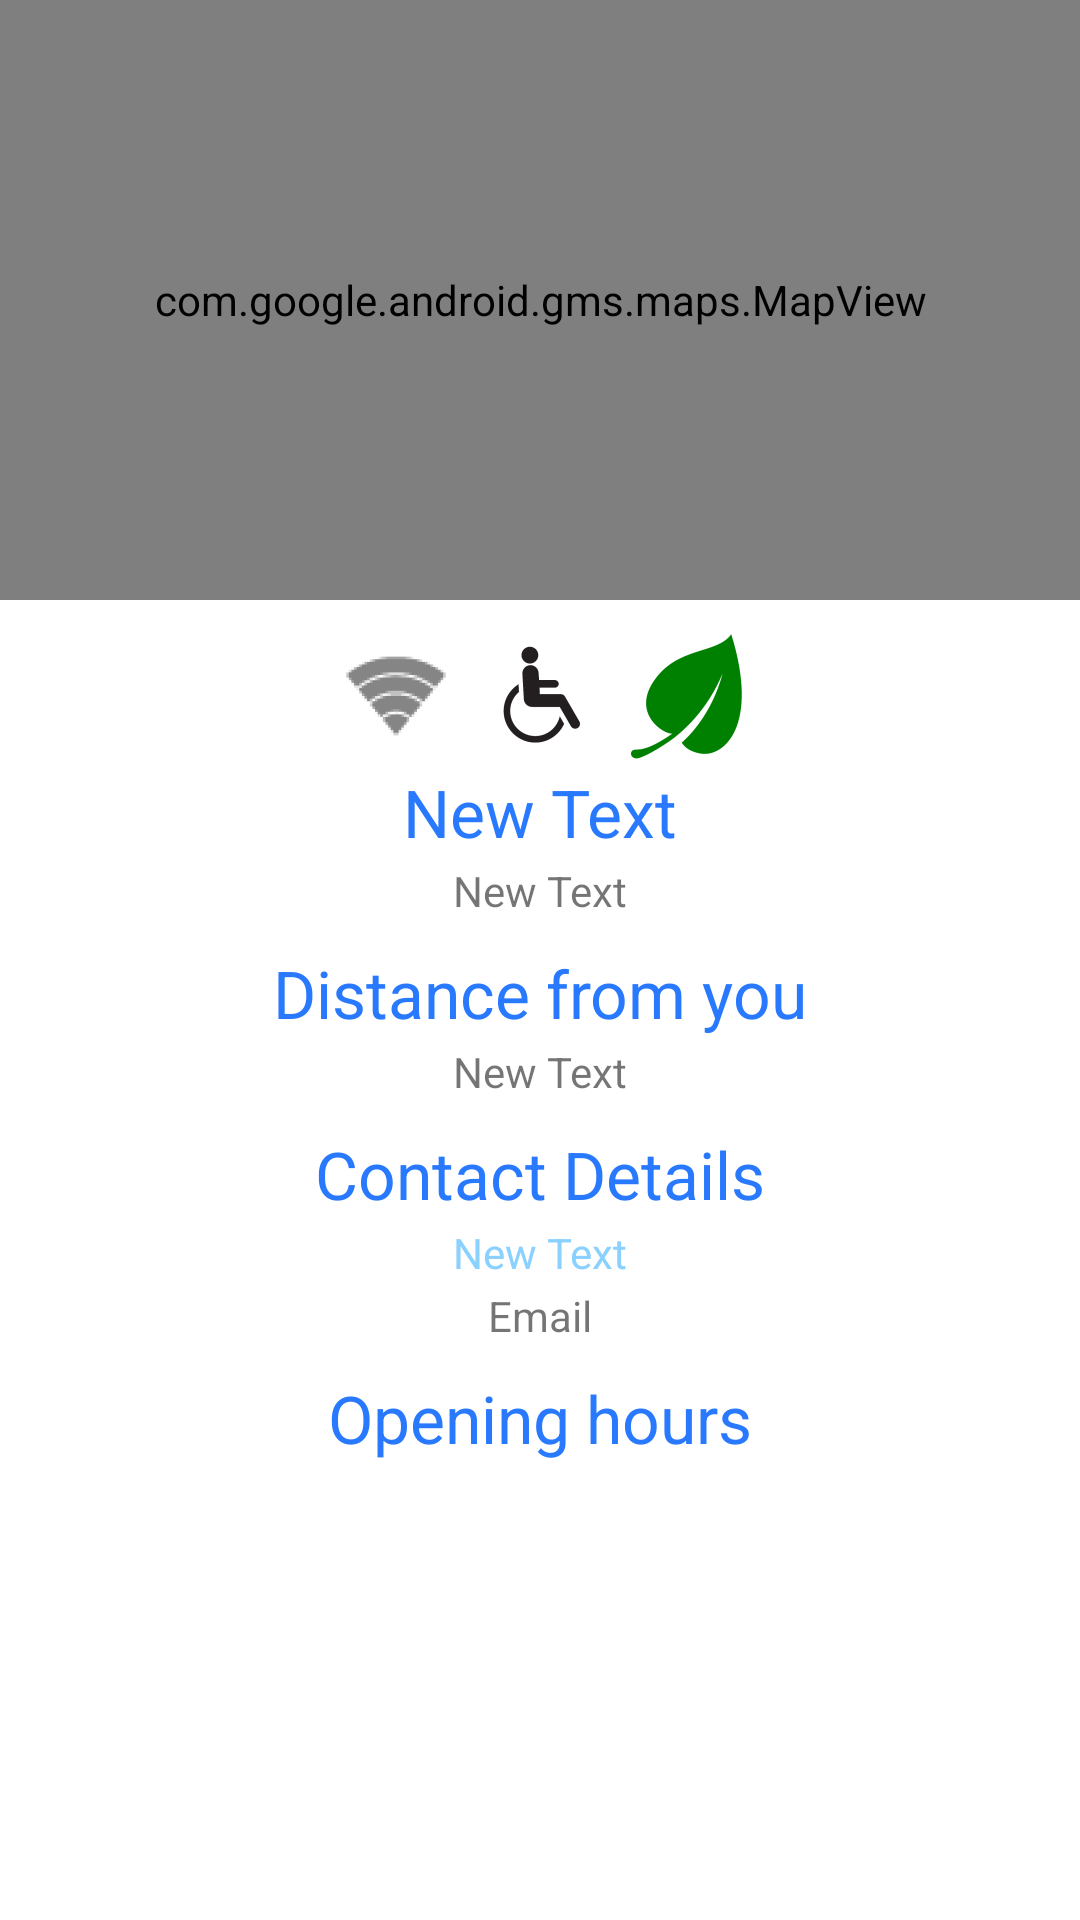

Icons on this 1080w x 1920h Android screen, each with its box as (x1, y1, x2, y2):
leaf: (631, 634, 742, 759)
wheelchair: (503, 646, 580, 743)
wifi: (346, 656, 446, 735)
